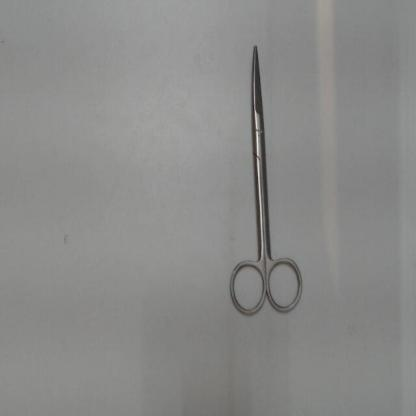Curved Mayo Scissors: (223, 39, 308, 321)
